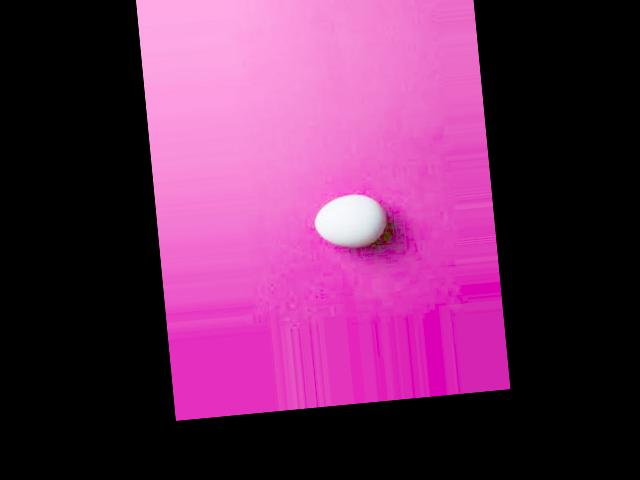egg: (312, 191, 387, 249)
